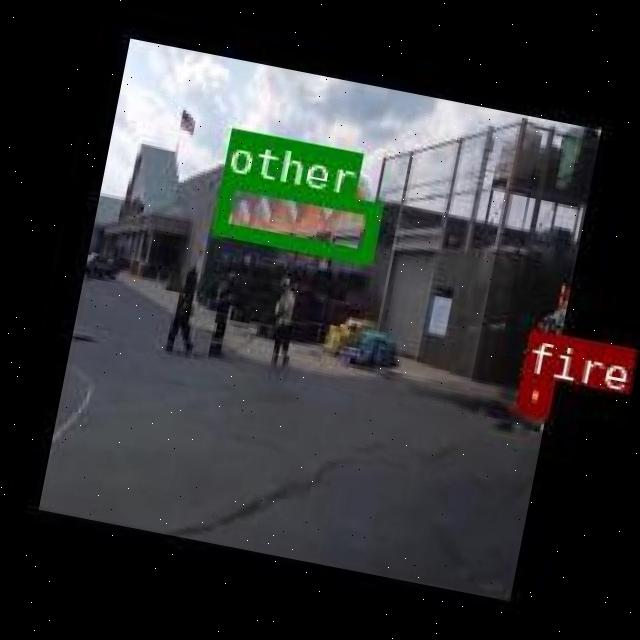fire: (515, 372, 552, 414)
